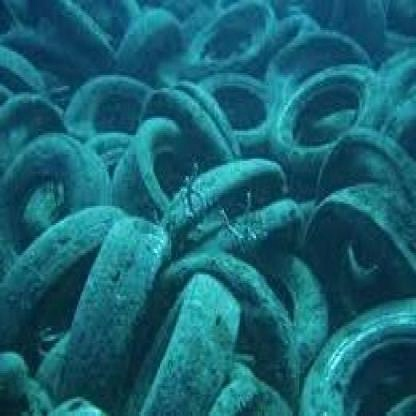tire: (29, 210, 158, 365), (176, 253, 322, 382), (302, 176, 416, 315), (275, 47, 394, 174), (182, 47, 309, 163), (121, 116, 222, 259), (3, 128, 117, 248), (58, 79, 163, 159)
